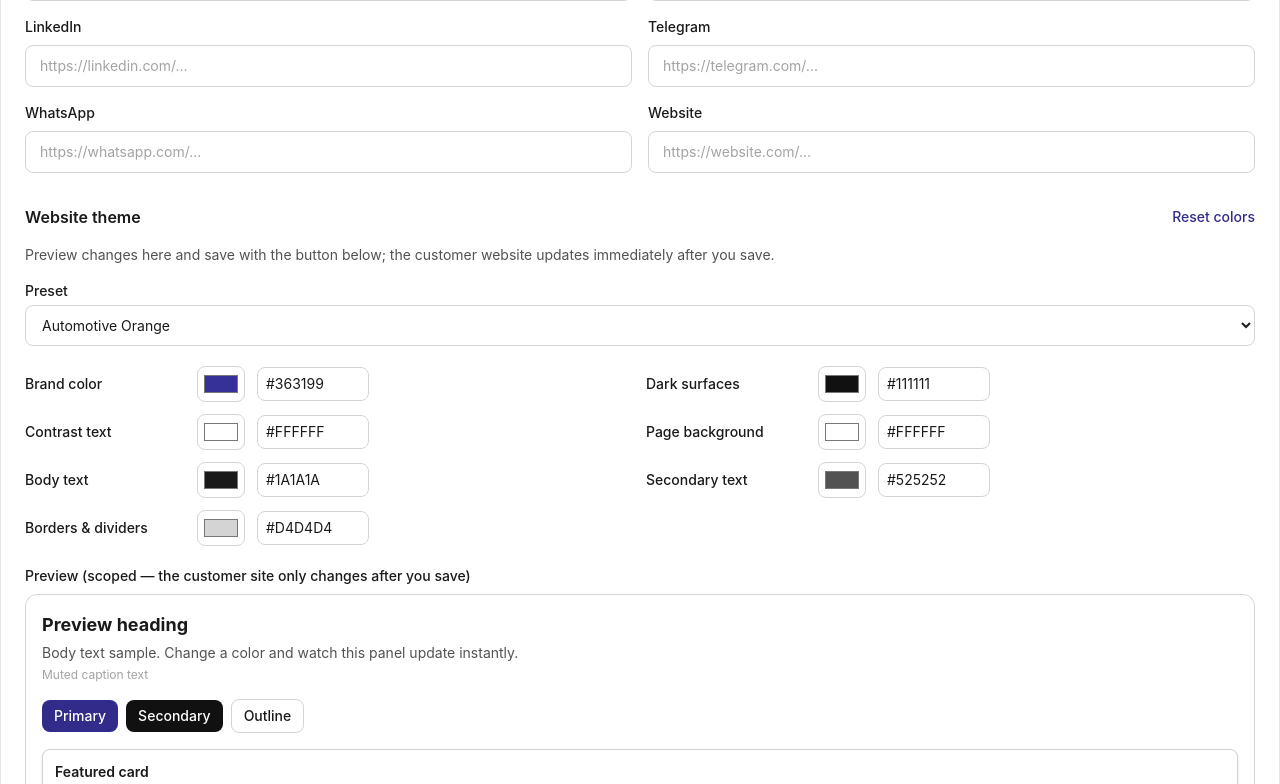
Test: ShopSettingsAdminPage › reset colors restores the saved theme without saving
(page scrolled)
Step 1. Replace the text in the field named "Brand color hex code" with "#123456" → (313, 384), box [257, 367, 369, 401]
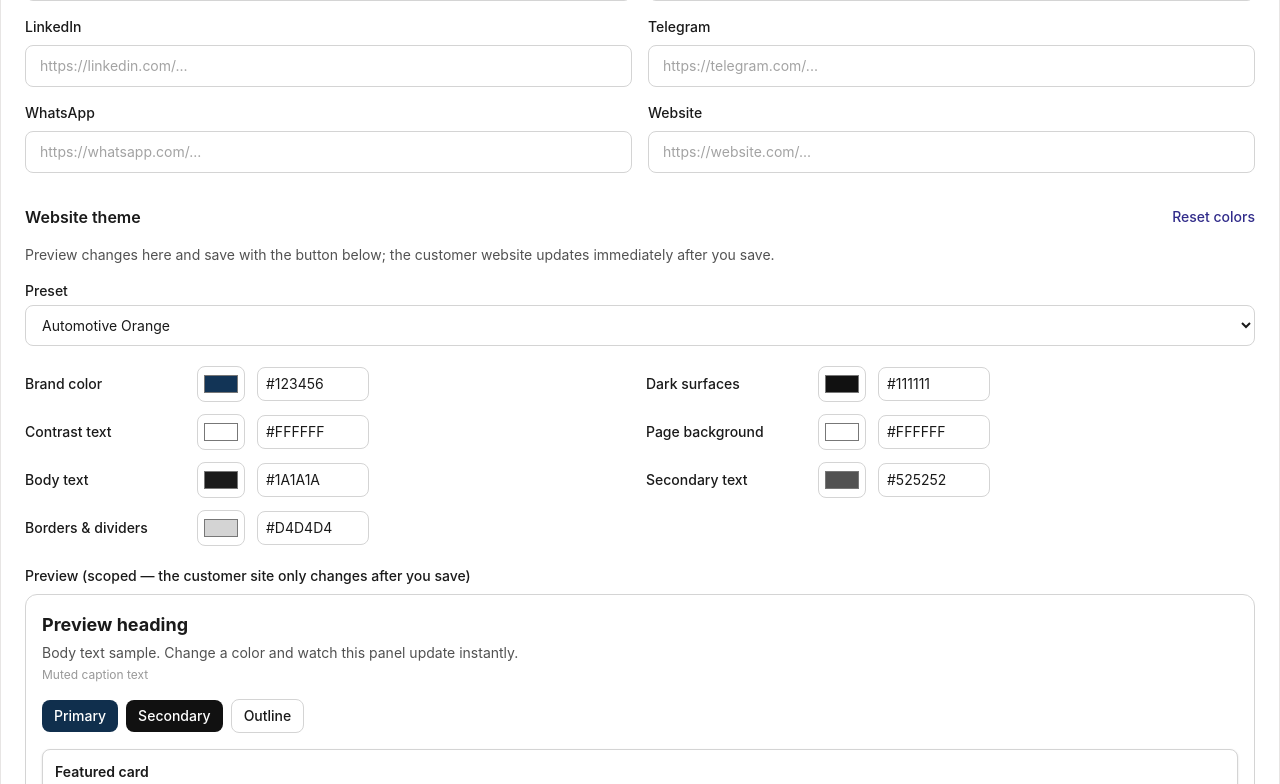
Step 2. Click the button "Reset colors" → (1214, 217), box [1172, 207, 1255, 227]
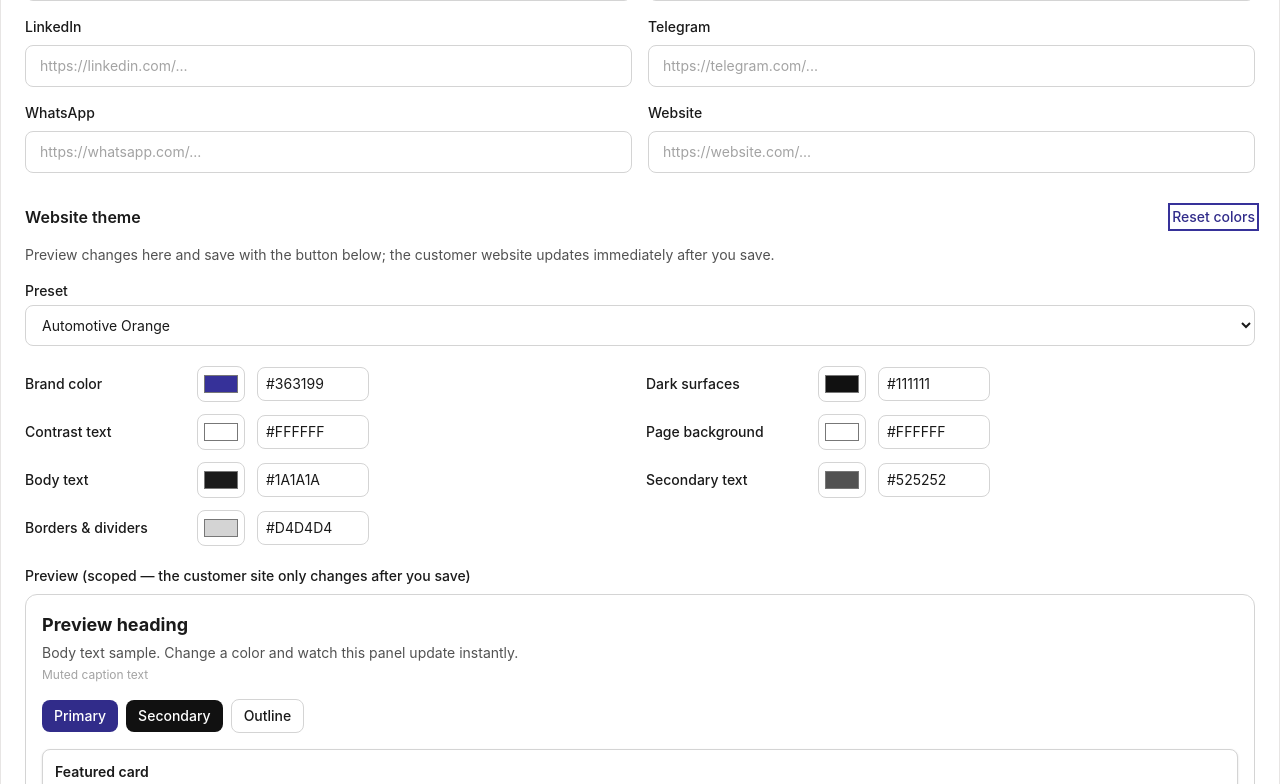
expect the field named "Brand color hex code" holds "#363199": met, box [257, 367, 369, 401]
